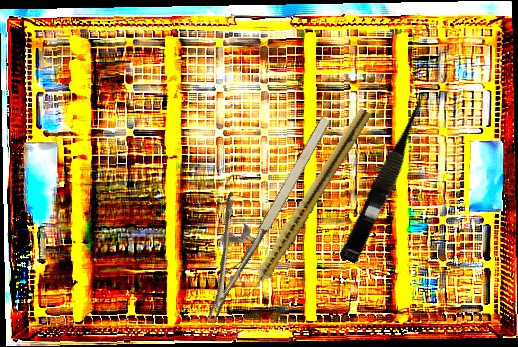Handpiece: (237, 105, 373, 306)
Micro Scissor: (338, 93, 436, 266)
Needle Holder: (166, 96, 337, 324)
